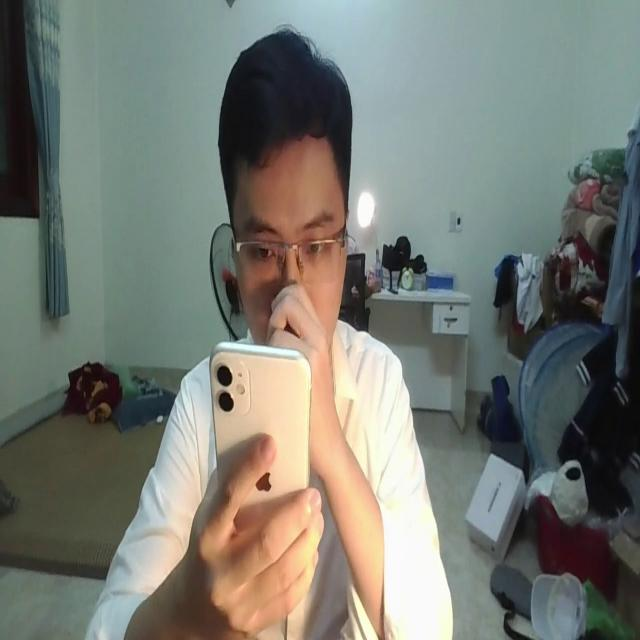phone: (208, 336, 310, 528)
student: (93, 35, 449, 640)
